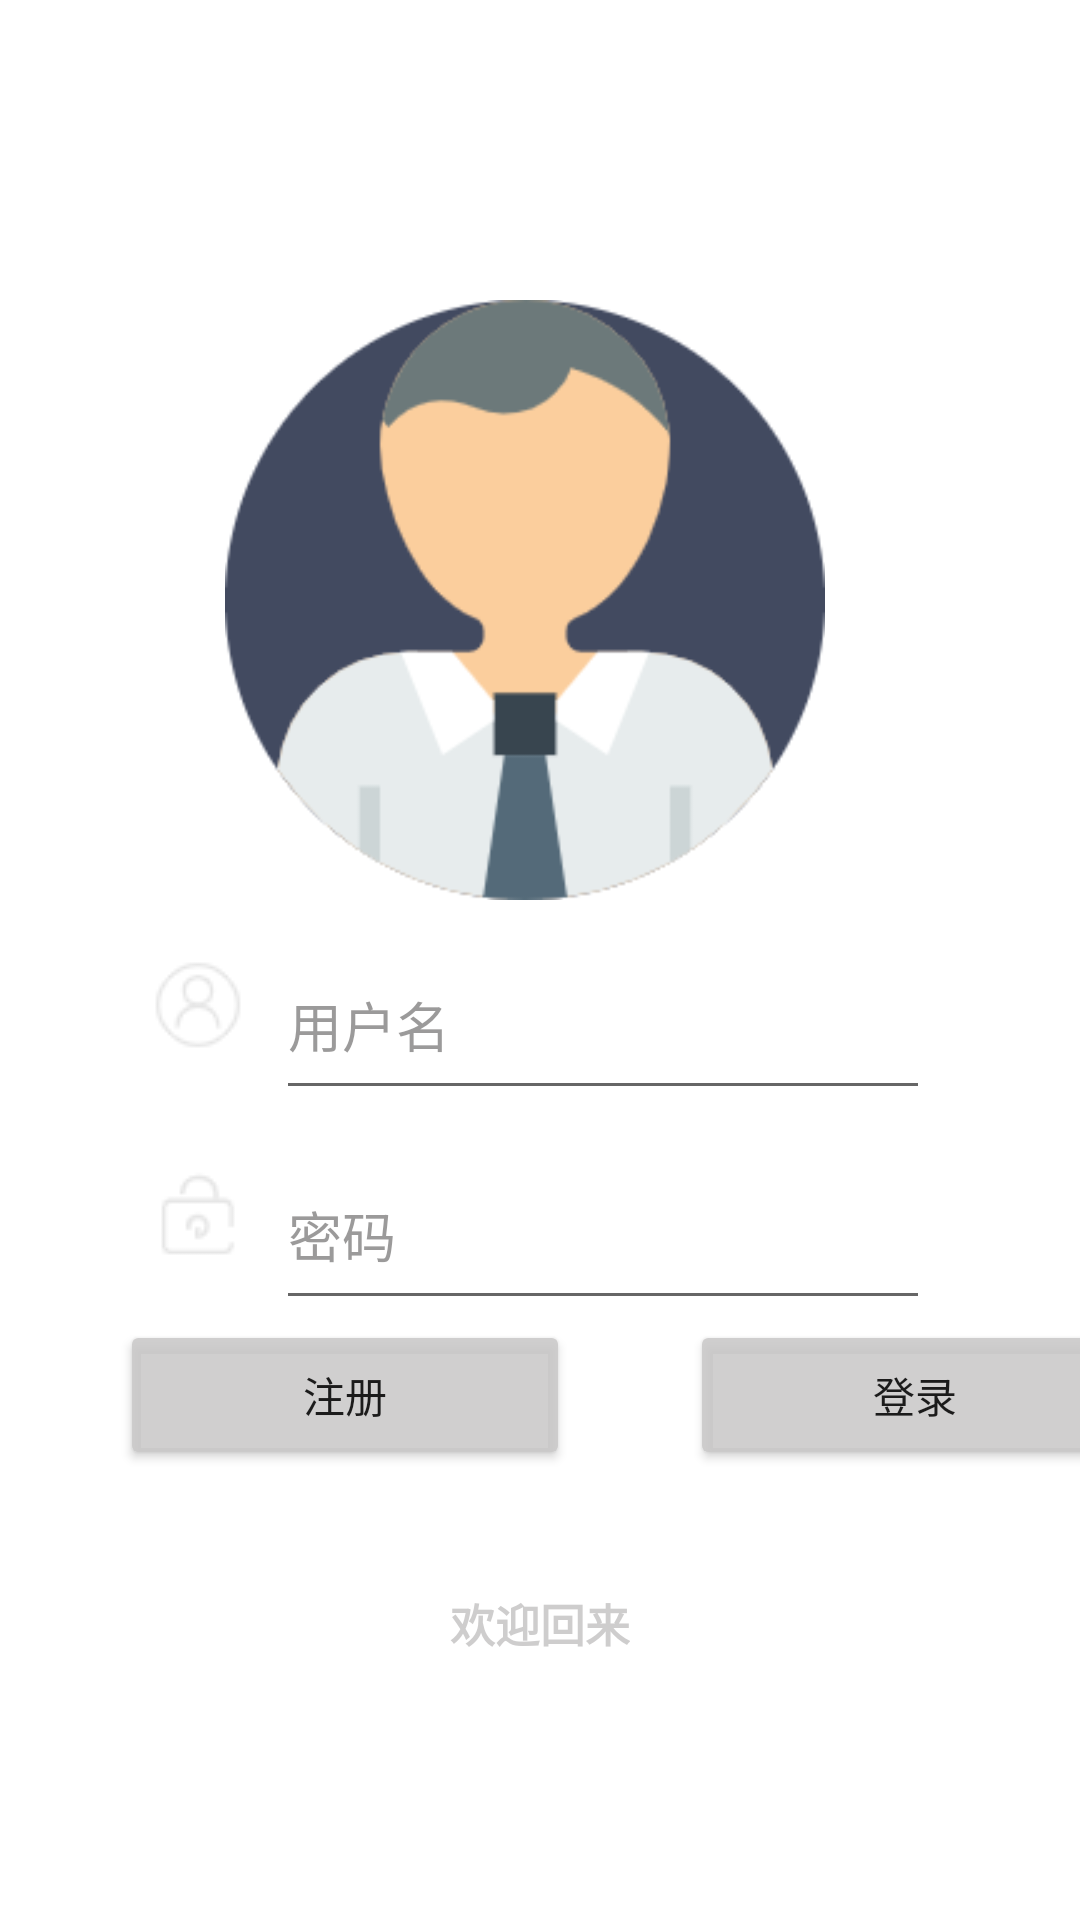

Named icons in this screenshot (1080 × 1920) and their centers, (x=x, y=y):
password: (x=196, y=1215)
username: (x=198, y=1005)
